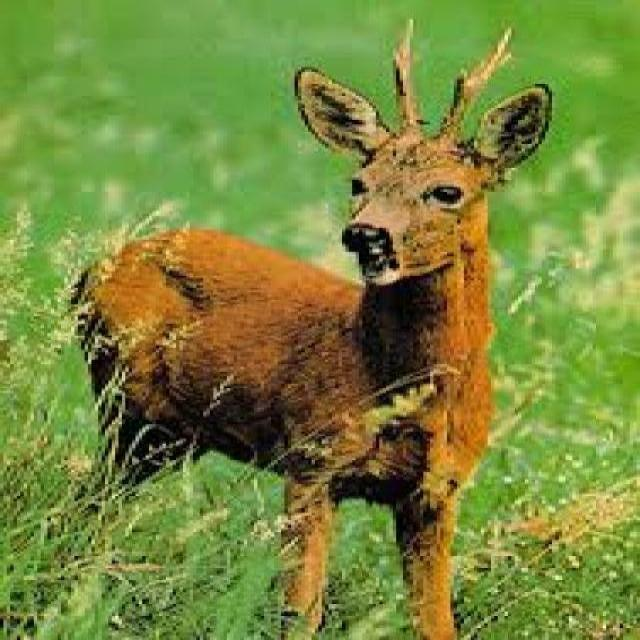deer: (68, 9, 574, 640)
